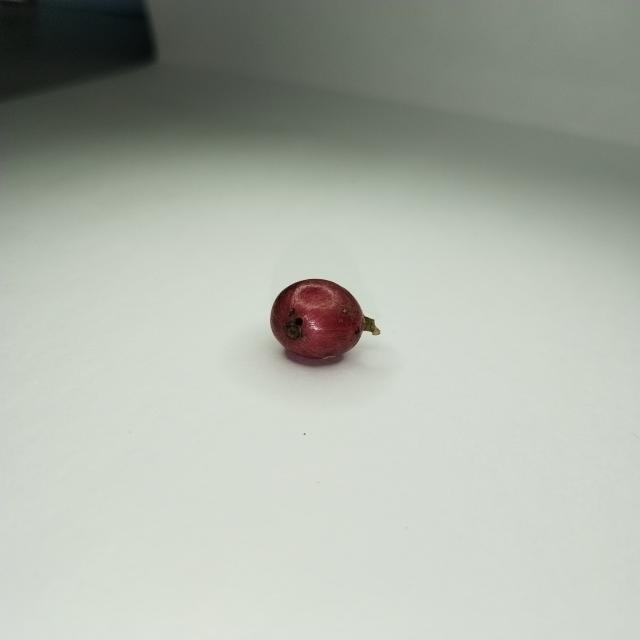Infectado: (269, 279, 372, 367)
